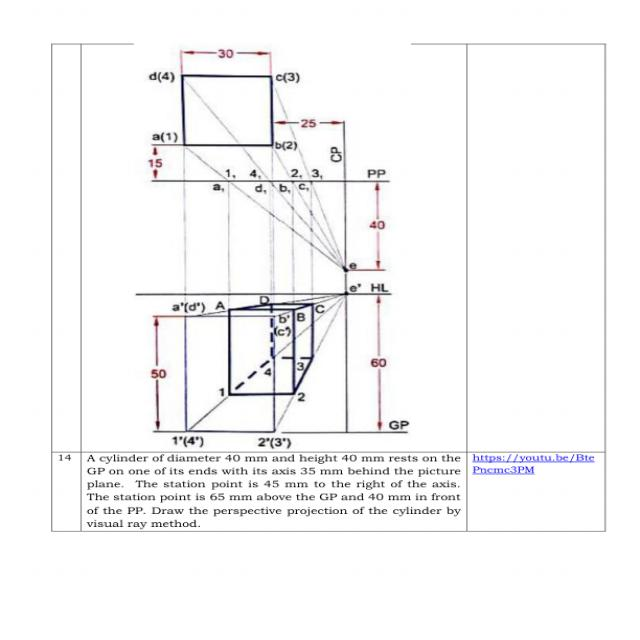Drawings: (123, 44, 419, 450)
